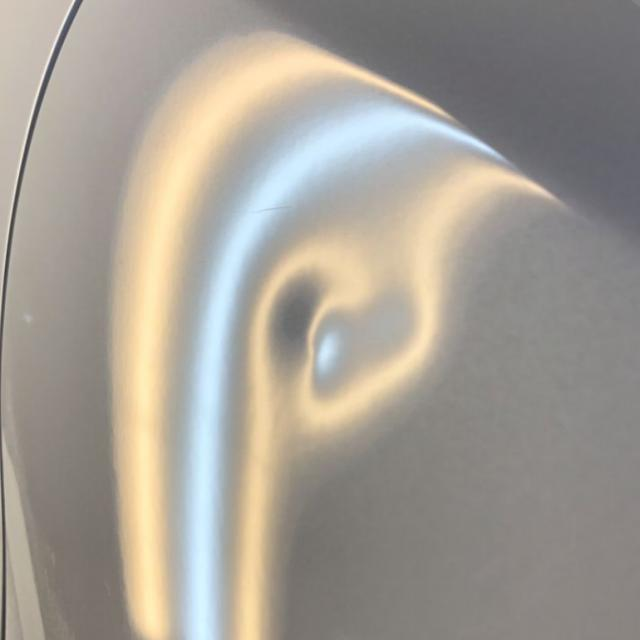dents: (251, 248, 380, 430)
